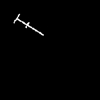double_crochet: (14, 14, 42, 34)
